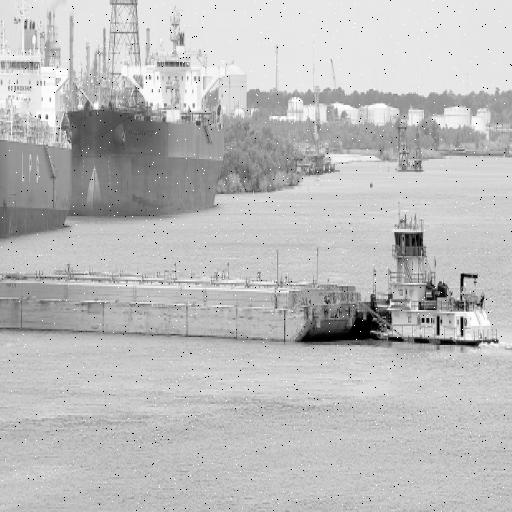tugboat: (366, 205, 503, 361)
